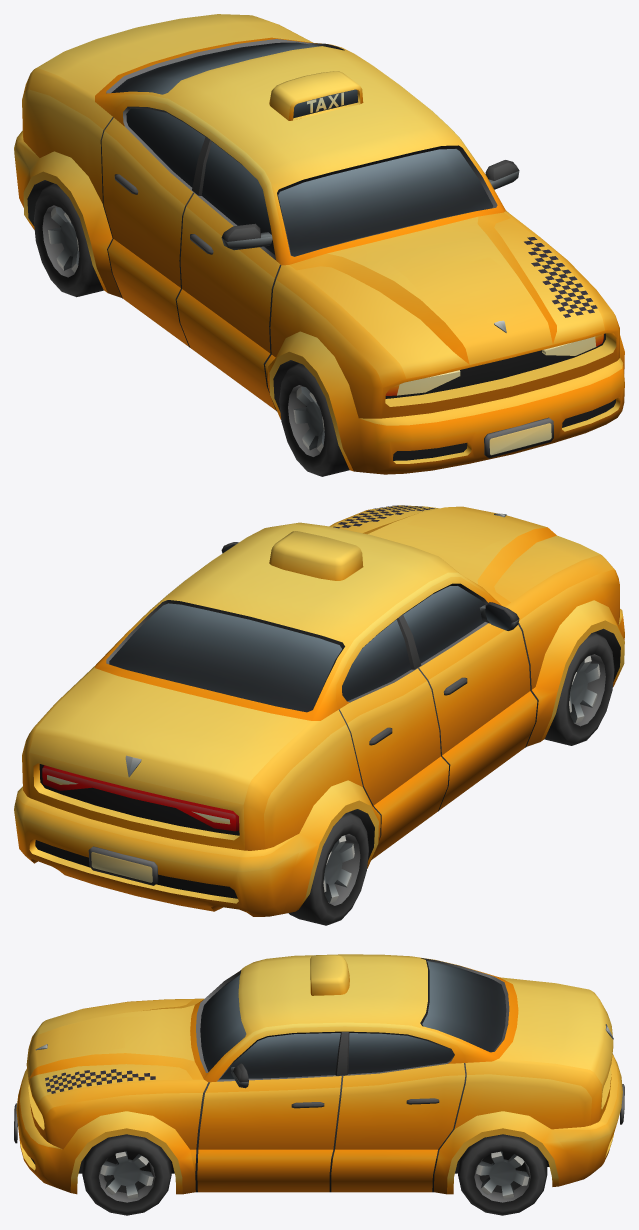
The model's file is Car_6H.fbx.
The picture shows the model from 3 angles, top to bottom: view 1: azimuth 30°, elevation 25°; view 2: azimuth 150°, elevation 25°; view 3: azimuth 270°, elevation 25°; orthographic projection. The views are drawn at different scales.
Visible parts, largest first — view 1: Car_6H, Wheel_6H_F.R, Wheel_6H_R.R; view 2: Car_6H, Wheel_6H_R.R, Wheel_6H_F.R; view 3: Car_6H, Wheel_6H_F.L, Wheel_6H_R.L.
Boxes of the visible parts, x1,y1,x2,y2 form: Car_6H: [14, 14, 624, 474]; Wheel_6H_F.R: [279, 363, 349, 476]; Wheel_6H_R.R: [33, 183, 103, 297]; Car_6H: [14, 505, 624, 916]; Wheel_6H_R.R: [288, 812, 368, 925]; Wheel_6H_F.R: [544, 632, 614, 745]; Car_6H: [14, 954, 624, 1194]; Wheel_6H_F.L: [82, 1134, 171, 1215]; Wheel_6H_R.L: [458, 1134, 547, 1215].
Size of the model in its own units: 246 by 209 by 580.
